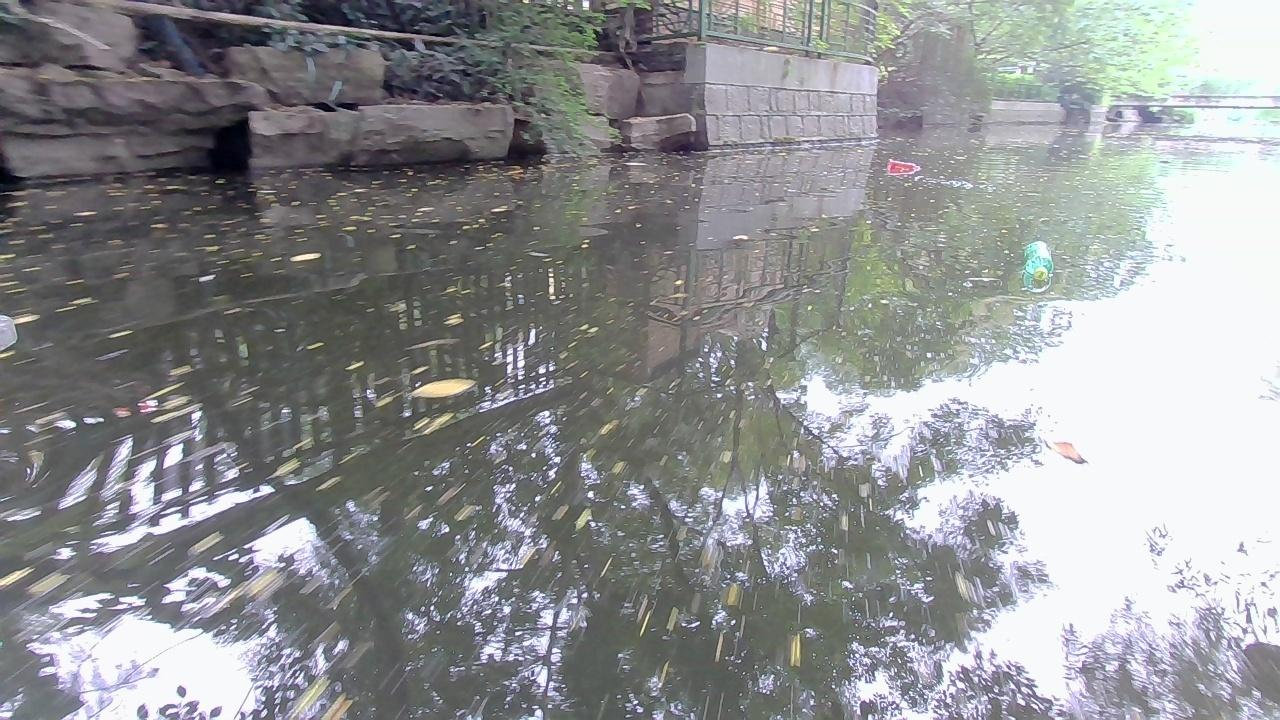bottle: (1021, 239, 1054, 278), (884, 154, 924, 174)
